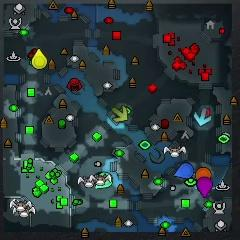p1: (174, 163, 194, 180)
p2: (95, 172, 113, 189)
p3: (197, 177, 212, 198)
p4: (32, 49, 47, 70)
p5: (196, 167, 211, 180)
x2: (113, 106, 128, 122)
x3: (194, 109, 211, 126)
